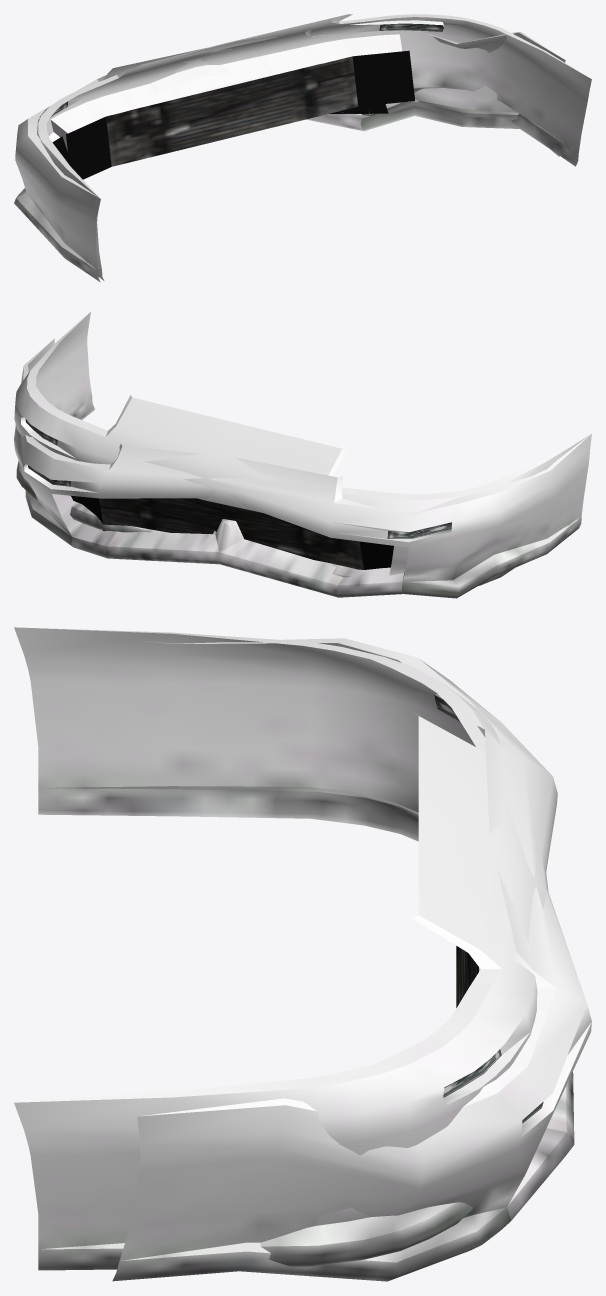
Rendered from fbmp_c_j.glb.
The picture shows the model from 3 angles, top to bottom: view 1: azimuth 30°, elevation 25°; view 2: azimuth 150°, elevation 25°; view 3: azimuth 270°, elevation 25°; orthographic projection. The views are drawn at different scales.
Parts seen in each view (by area): view 1: fbmp_c_j, fbmp_c_j_dam; view 2: fbmp_c_j_dam, fbmp_c_j; view 3: fbmp_c_j, fbmp_c_j_dam.
Boxes of the visible parts, x1,y1,x2,y2 form: fbmp_c_j: (37,14,591,280); fbmp_c_j_dam: (14,28,565,282); fbmp_c_j_dam: (14,338,591,598); fbmp_c_j: (14,312,591,585); fbmp_c_j: (14,627,548,1270); fbmp_c_j_dam: (14,627,591,1281).
Bounding box in the file's own units: 2.22 × 0.6008 × 1.12.
Materials: 3 (3 with a texture image).
